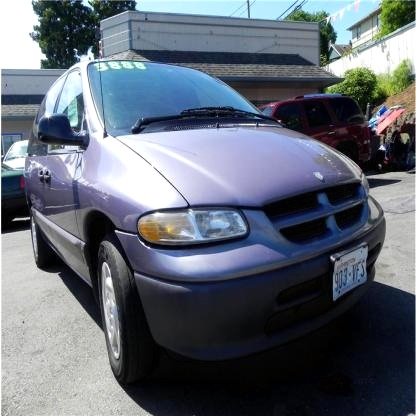Vehicle: (21, 58, 387, 379)
